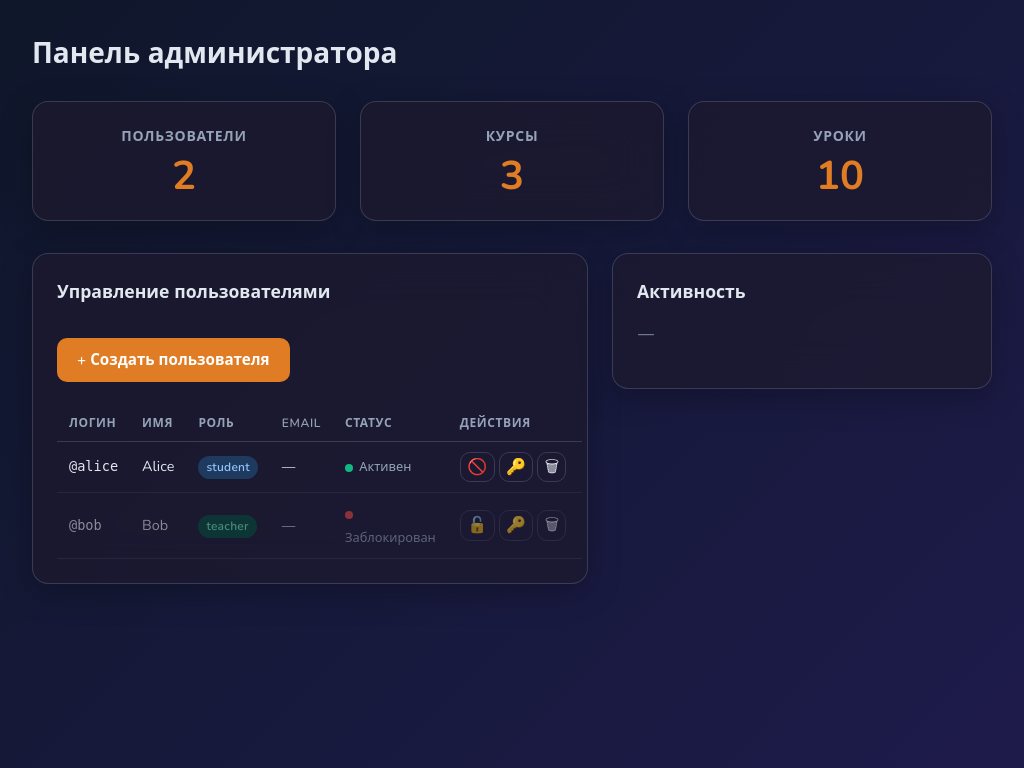
Test: AdminPage › disables action buttons while pendingAction is active
The image size is (1024, 768).
Expected: the text "@alice" is shown, 57,442 -> 130,492
Step 1. Click the button titled "заблокировать" → click(477, 467), box 460,452 -> 495,482
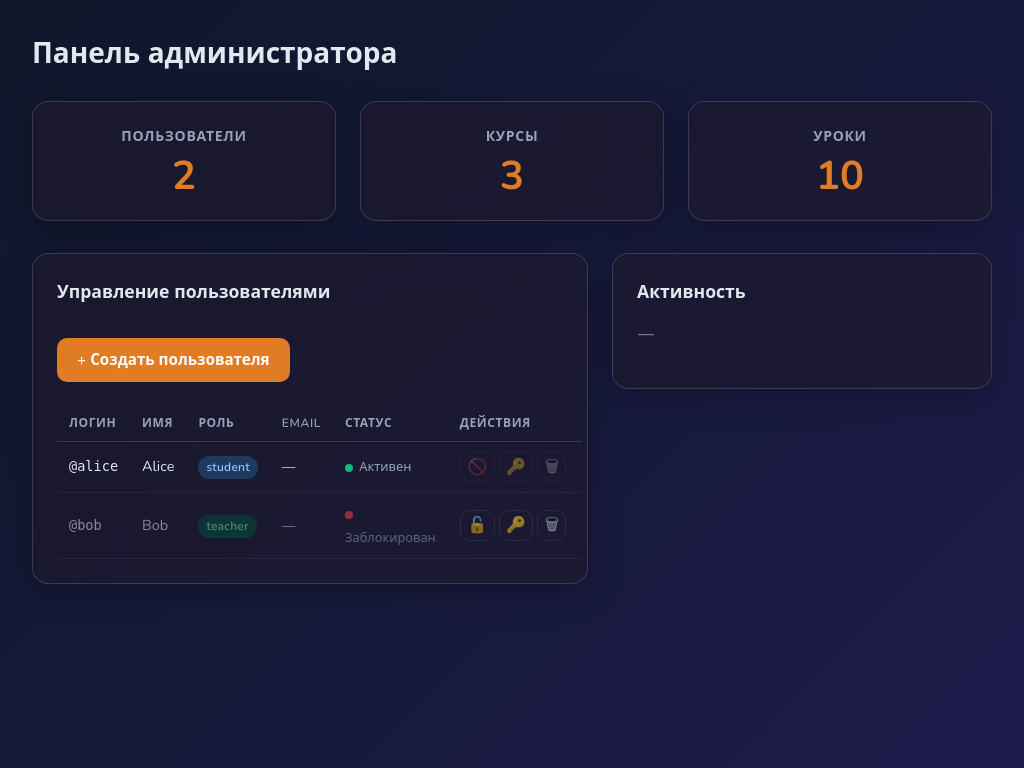
Expected: the button titled "заблокировать" is disabled, 460,452 -> 495,482
